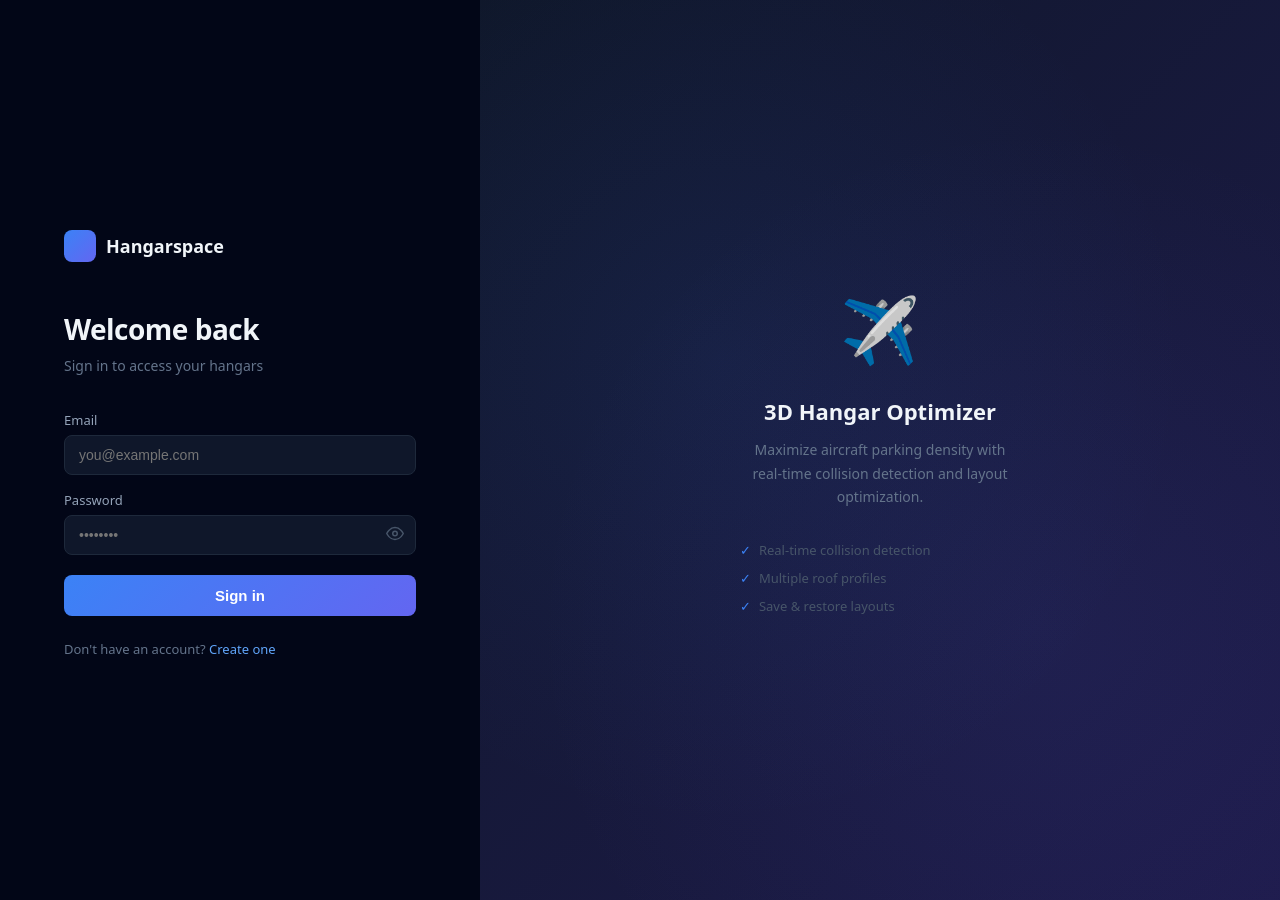
Test: Login page › shows generic error message on login failure
Type "bad@test.com" into the field with placeholder "you@example.com" at (240, 454), box [64,434,416,474]
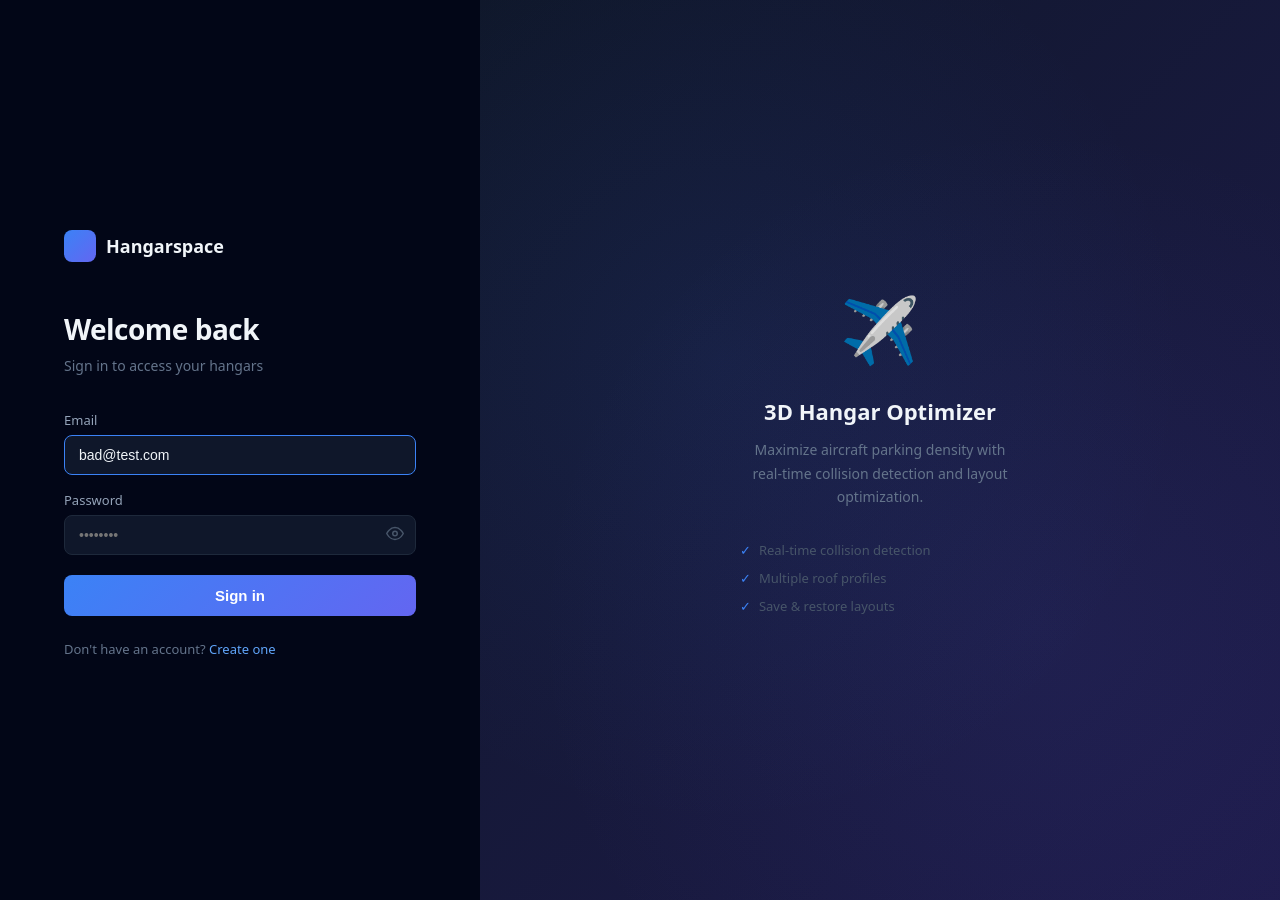
Type "wrongpass" into the password field with placeholder "••••••••" at (240, 534), box [64,514,416,554]
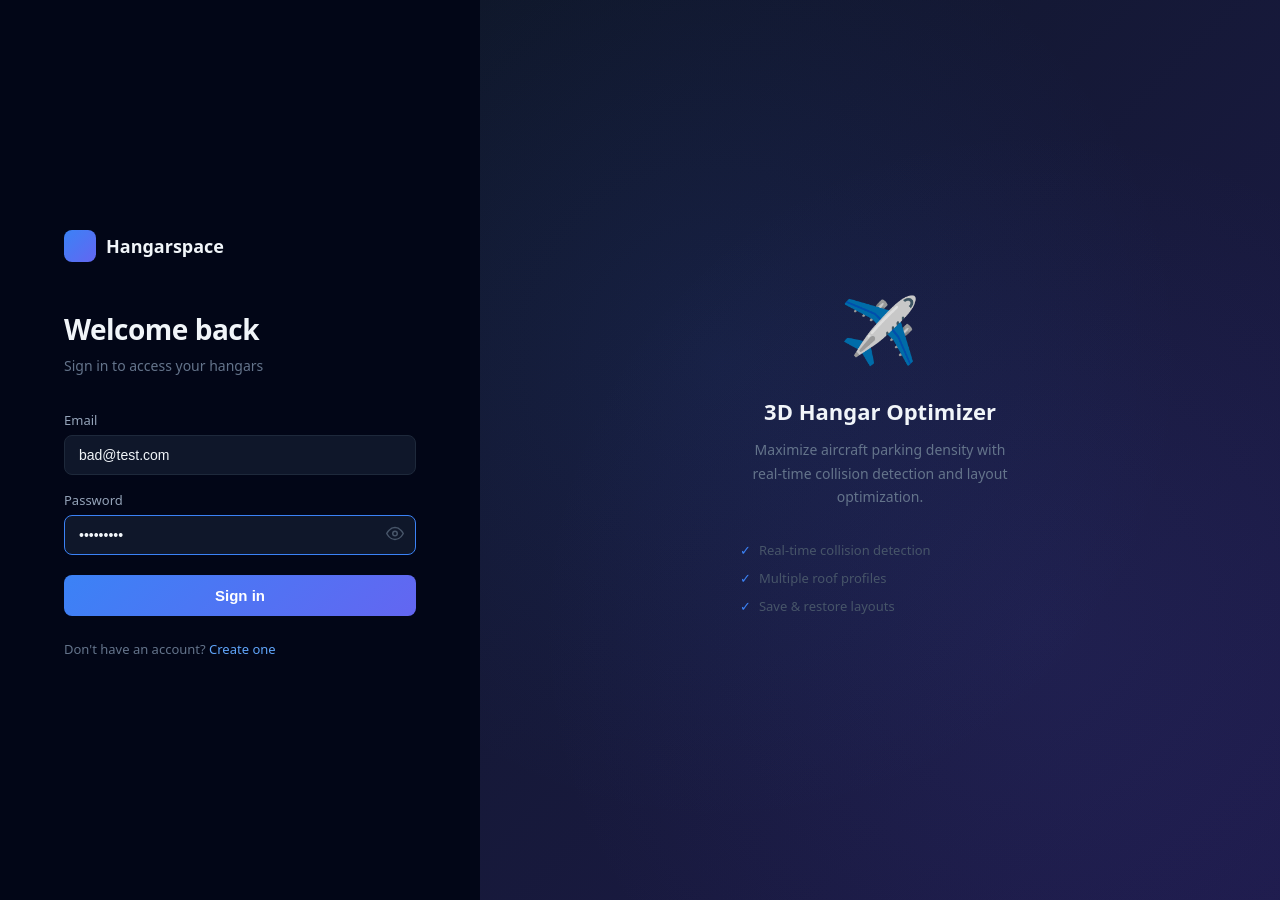
Click the button "Sign in" at (240, 595), box [64,574,416,616]
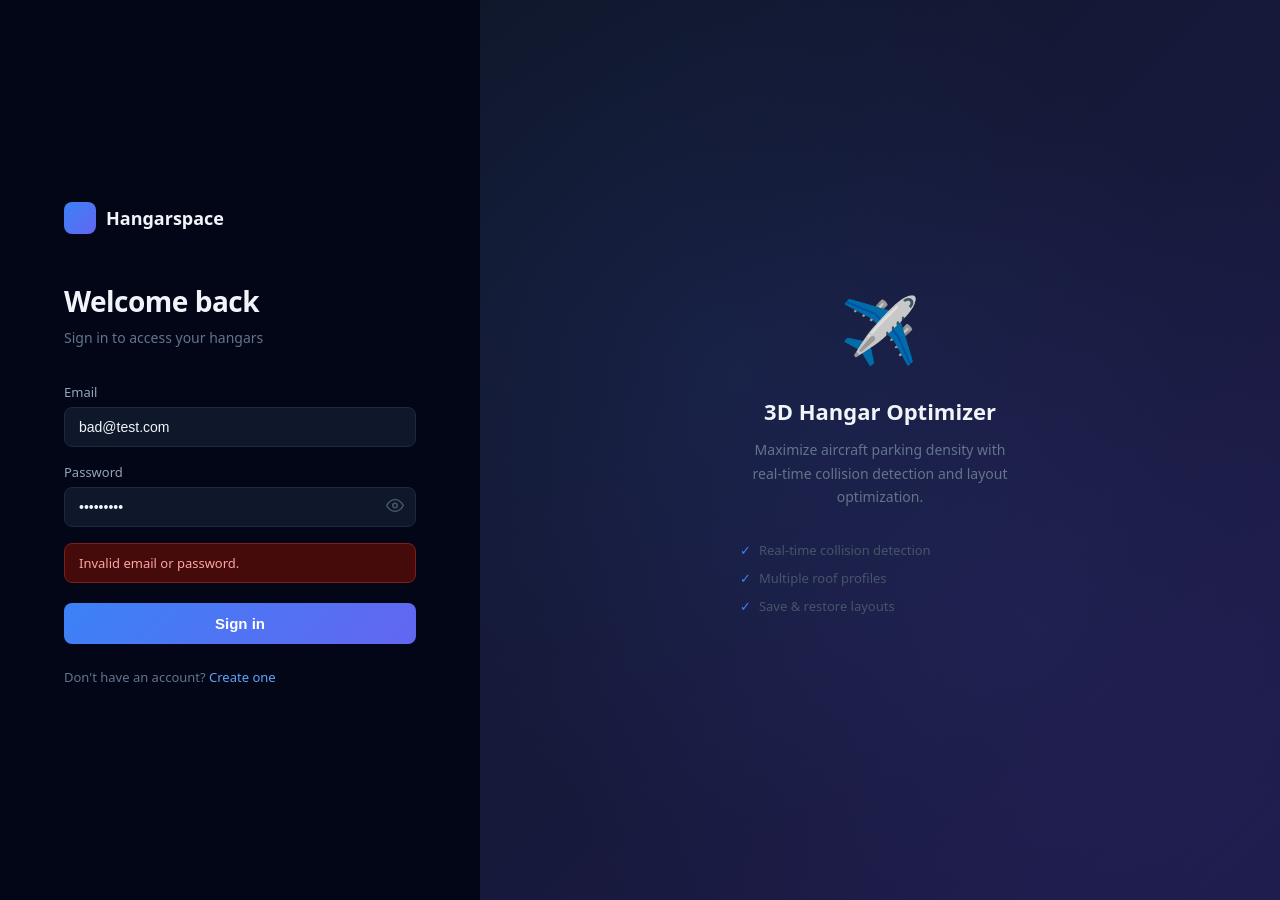
Check: the text "Invalid email or password." is shown, box [64,542,416,582]
